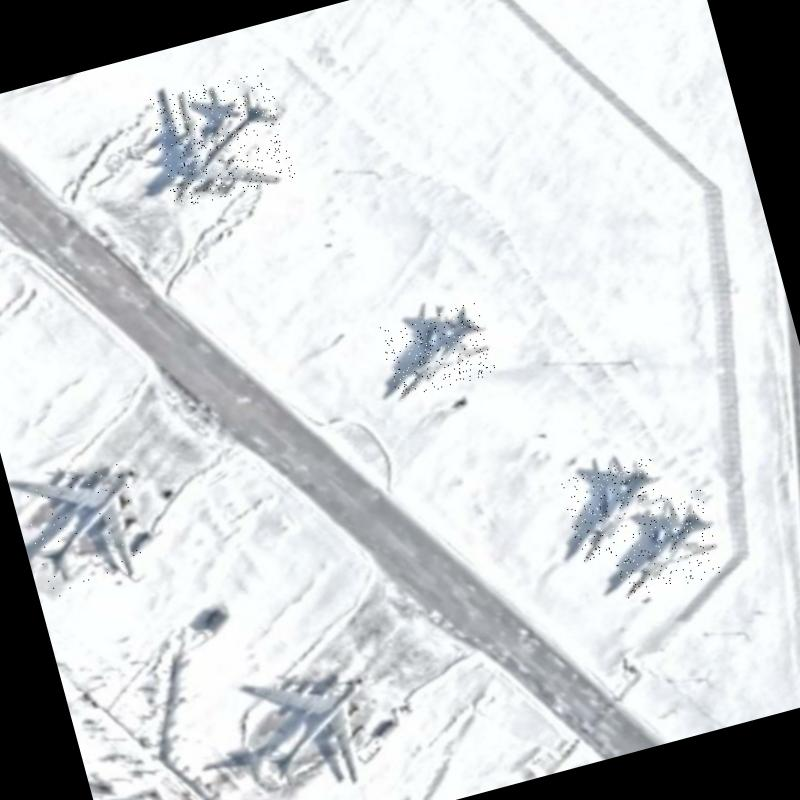A12: (602, 488, 724, 600), (559, 454, 674, 562), (376, 300, 497, 401)
A17: (17, 451, 162, 600), (146, 68, 296, 209), (247, 654, 391, 800)
